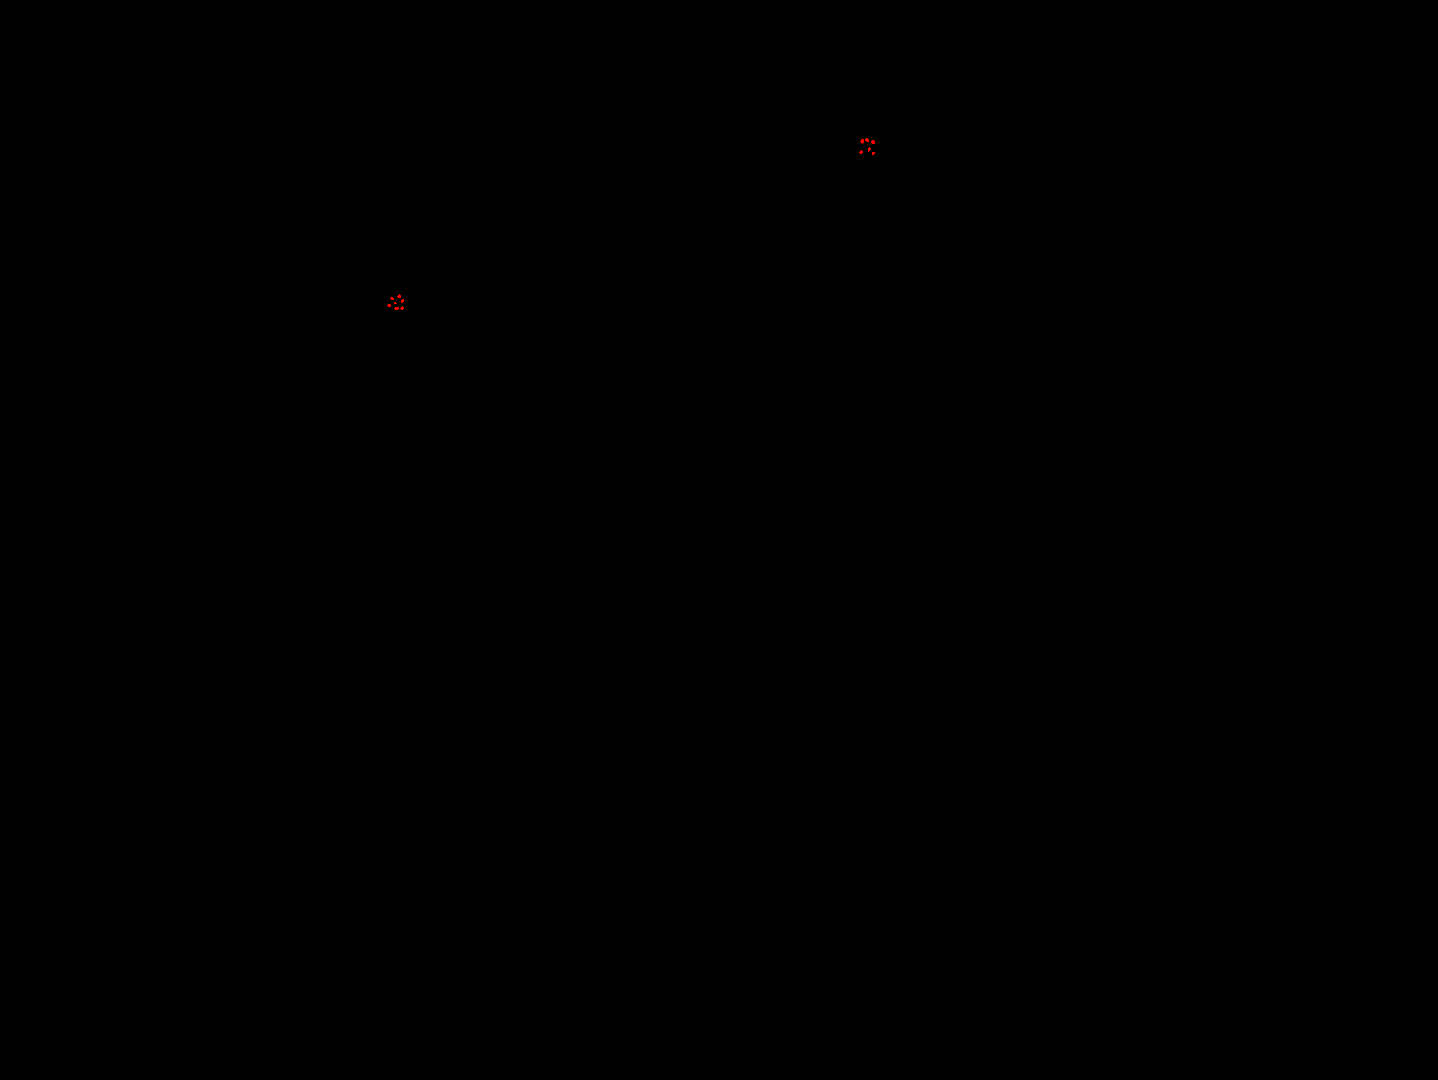Target: (860, 140, 864, 144), (871, 140, 876, 144), (858, 150, 863, 154), (397, 294, 401, 298), (868, 147, 871, 152), (387, 304, 391, 307), (394, 307, 399, 310), (865, 138, 869, 142), (872, 152, 876, 155), (400, 306, 404, 310), (390, 297, 394, 299), (401, 299, 404, 303), (394, 302, 397, 304)
